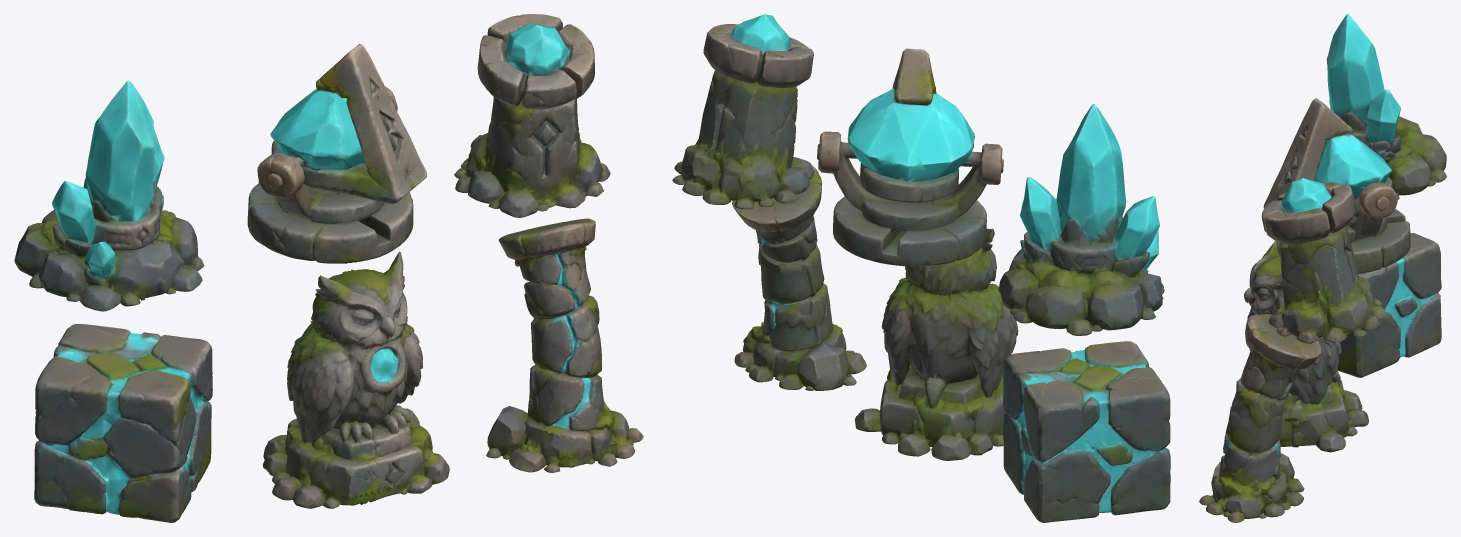
Rendered from cueva_pulso.glb.
3 views of the same model, side by side, from view 1: azimuth 30°, elevation 25°; view 2: azimuth 150°, elevation 25°; view 3: azimuth 270°, elevation 25° (orthographic). The views are drawn at different scales.
Visible parts, largest first — view 1: tripo_node_25afb253-c523-4597-8b48-c258ea0cb8d3; view 2: tripo_node_25afb253-c523-4597-8b48-c258ea0cb8d3; view 3: tripo_node_25afb253-c523-4597-8b48-c258ea0cb8d3.
Boxes of the visible parts, bbox=[...] form: tripo_node_25afb253-c523-4597-8b48-c258ea0cb8d3: bbox=[14, 14, 643, 522]; tripo_node_25afb253-c523-4597-8b48-c258ea0cb8d3: bbox=[672, 14, 1170, 522]; tripo_node_25afb253-c523-4597-8b48-c258ea0cb8d3: bbox=[1199, 14, 1446, 522].
Bounding box in the file's own units: 0.9804 × 0.7143 × 0.4791.
1 material, 1 textured.
